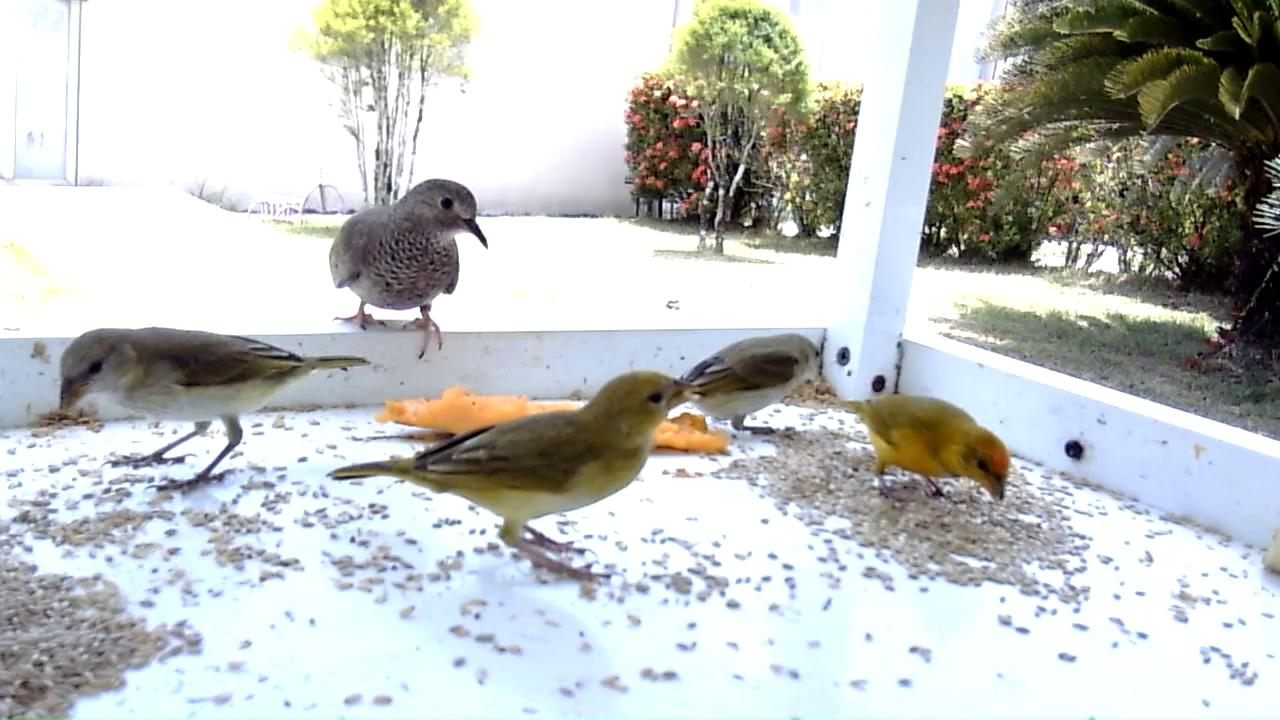canario_do_amazonas: (325, 370, 705, 589), (55, 324, 372, 501), (829, 394, 1013, 507), (678, 330, 824, 439)
rolinha: (330, 178, 492, 363)
